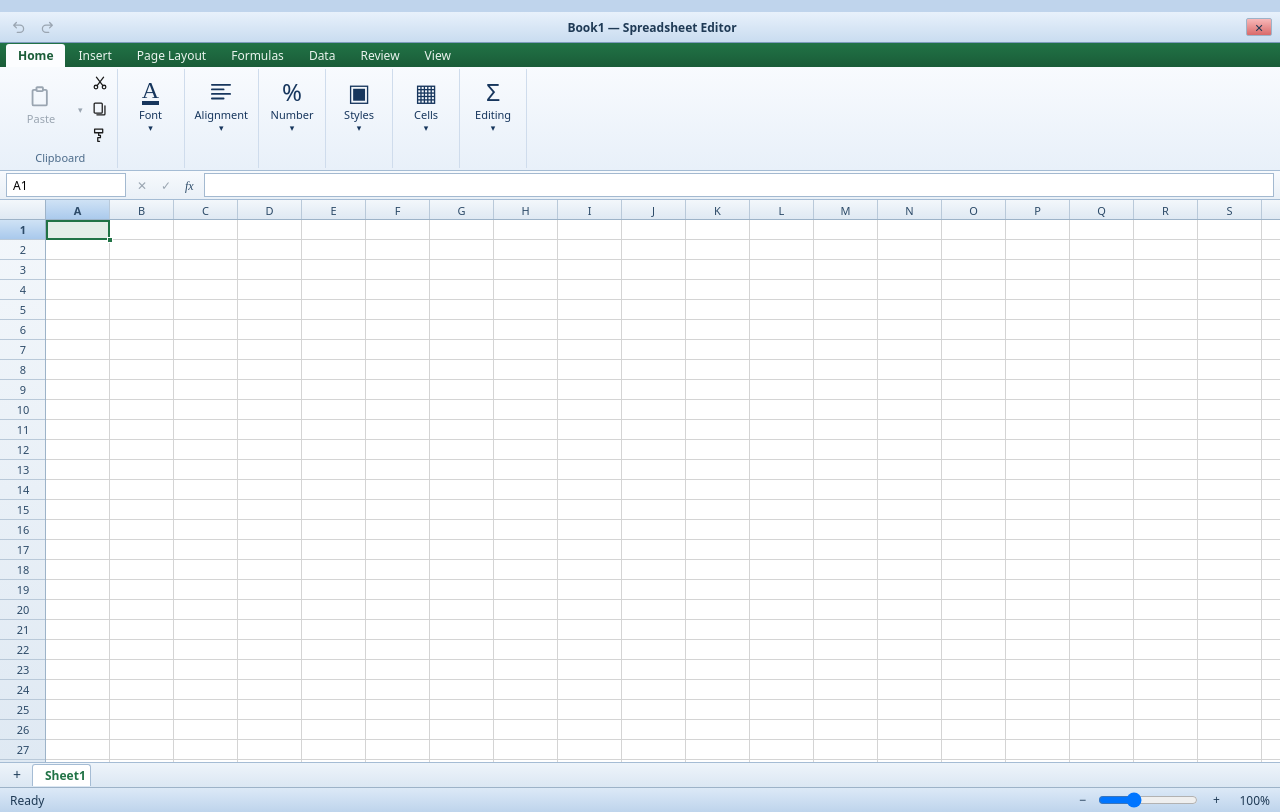
Test: the controls the new tabs actually wire › protects the sheet from the Review tab, and says so
The width and height of the screenshot is (1280, 812).
Click the tab "Review": click(380, 56) [348, 44, 412, 67]
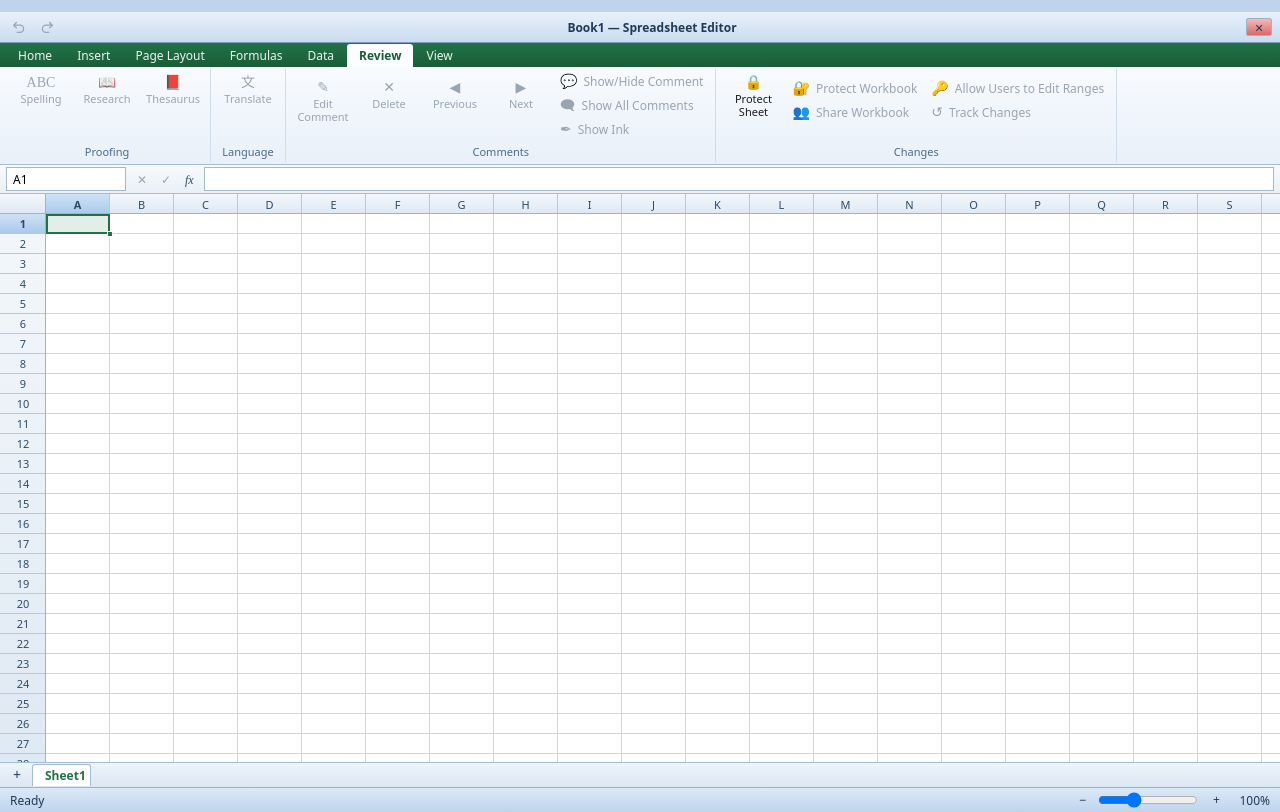
Click the button "🔒 Protect Sheet": click(754, 101) [722, 71, 786, 131]
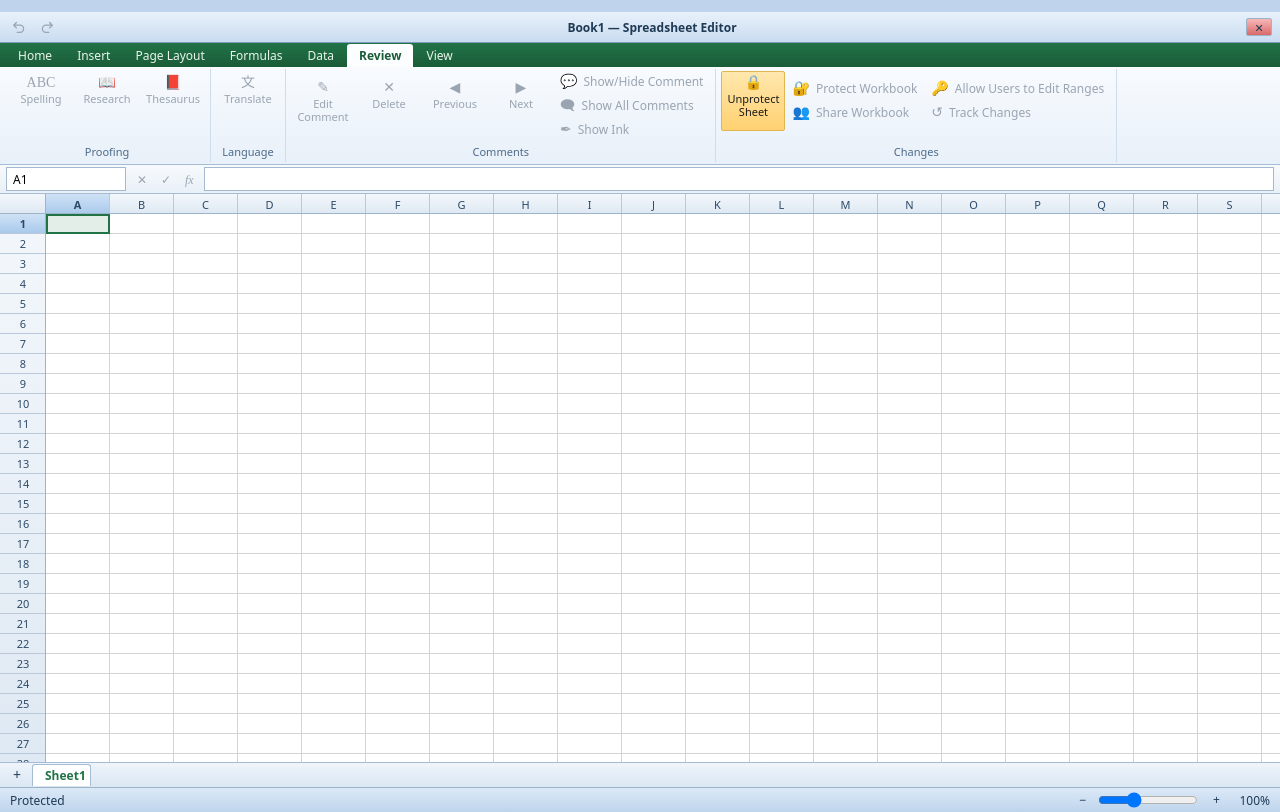
Check: the text "Protected" is shown, box [10, 792, 65, 808]
Check: the button "🔒 Unprotect Sheet" is shown, box [722, 71, 786, 131]
